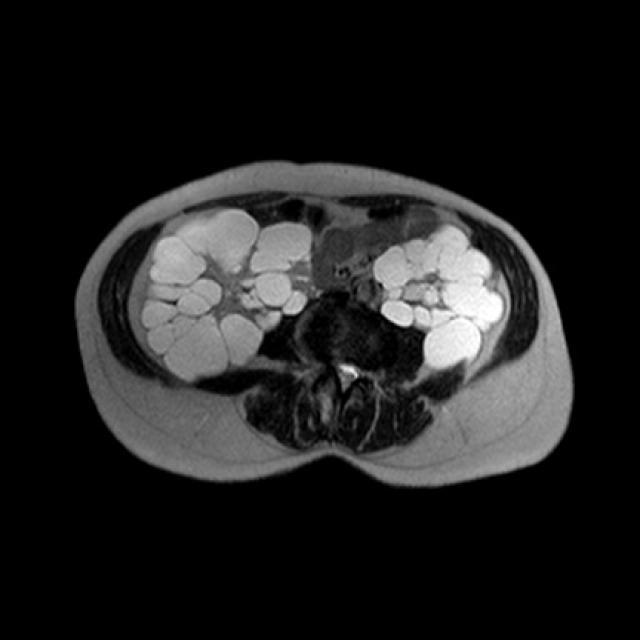sag: (136, 204, 315, 380)
sol: (371, 225, 505, 369)
